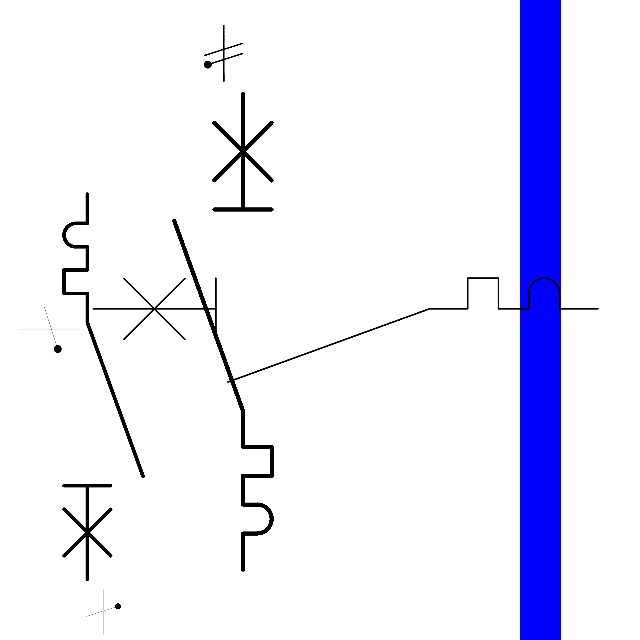interruptor_termomagnetico: (80, 265, 611, 395), (162, 81, 284, 582), (54, 184, 153, 589)
